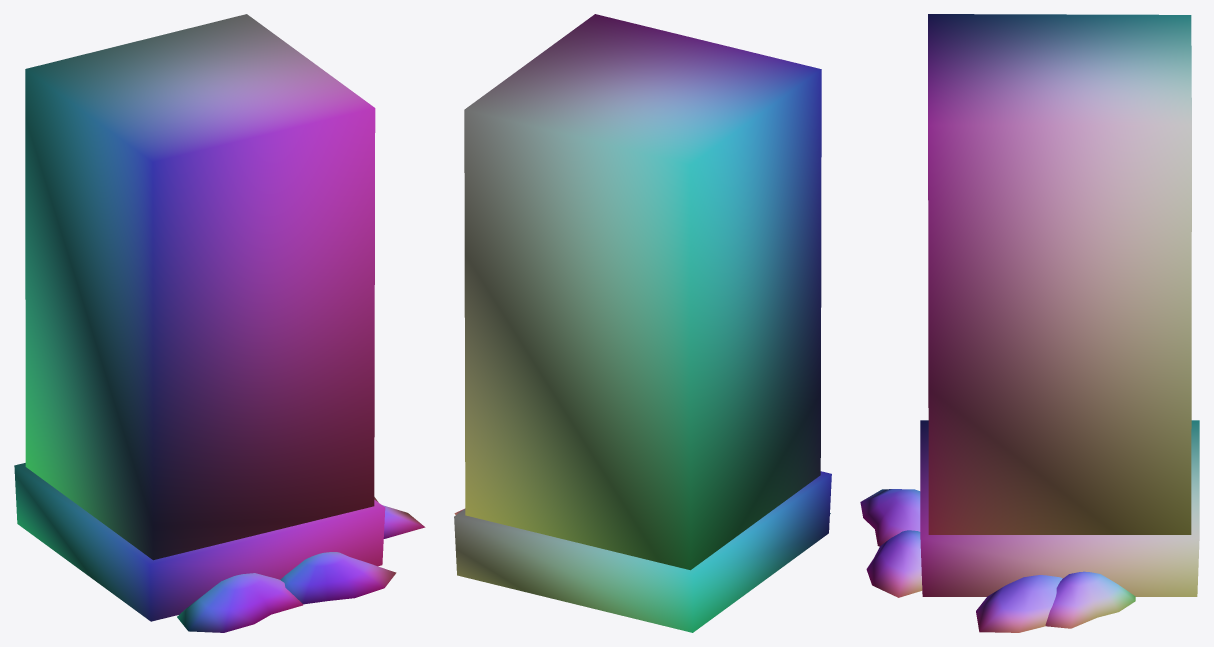
Rendered from SM_Pit_Wall_C.fbx.
3 renders of one model, left to right at view 1: azimuth 30°, elevation 25°; view 2: azimuth 150°, elevation 25°; view 3: azimuth 270°, elevation 25°, orthographic. The views are drawn at different scales.
Visible parts, largest first — view 1: SM_Pit_Wall_C; view 2: SM_Pit_Wall_C; view 3: SM_Pit_Wall_C.
Part boxes in pixels (box(x1,y1,x2,y2)): SM_Pit_Wall_C: box(14, 14, 425, 632); SM_Pit_Wall_C: box(454, 14, 831, 632); SM_Pit_Wall_C: box(860, 14, 1199, 632).
Size of the model in its own units: 1.41 by 2.02 by 1.32.
